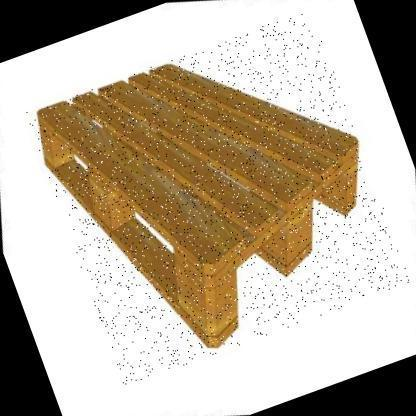pallet: (40, 56, 361, 345)
